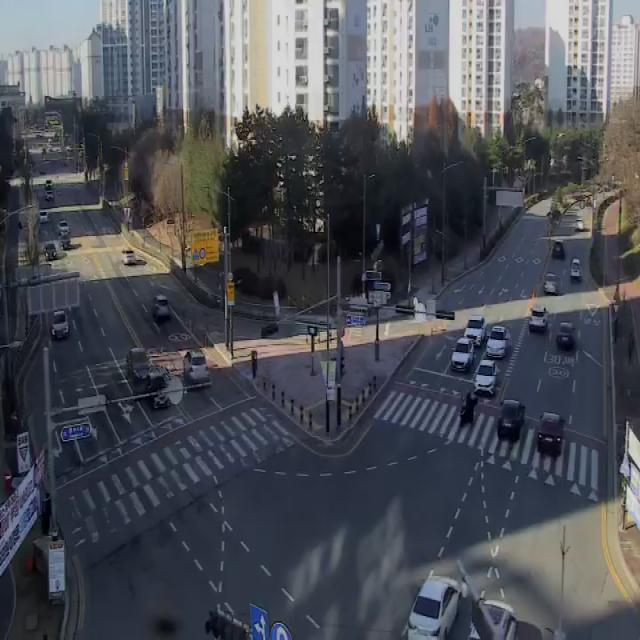Car: (408, 576, 461, 640), (468, 598, 516, 640), (498, 399, 526, 442), (538, 413, 565, 456), (182, 350, 210, 384), (475, 360, 499, 396), (146, 375, 172, 408), (126, 348, 151, 382), (452, 338, 474, 374), (486, 326, 509, 358), (464, 315, 486, 347), (51, 310, 70, 340), (528, 306, 549, 333), (557, 322, 575, 348), (155, 295, 169, 321), (543, 272, 557, 294), (42, 242, 58, 261), (570, 258, 582, 281), (121, 248, 136, 265), (552, 241, 566, 259), (58, 220, 70, 237), (60, 236, 72, 251), (39, 210, 49, 224)
